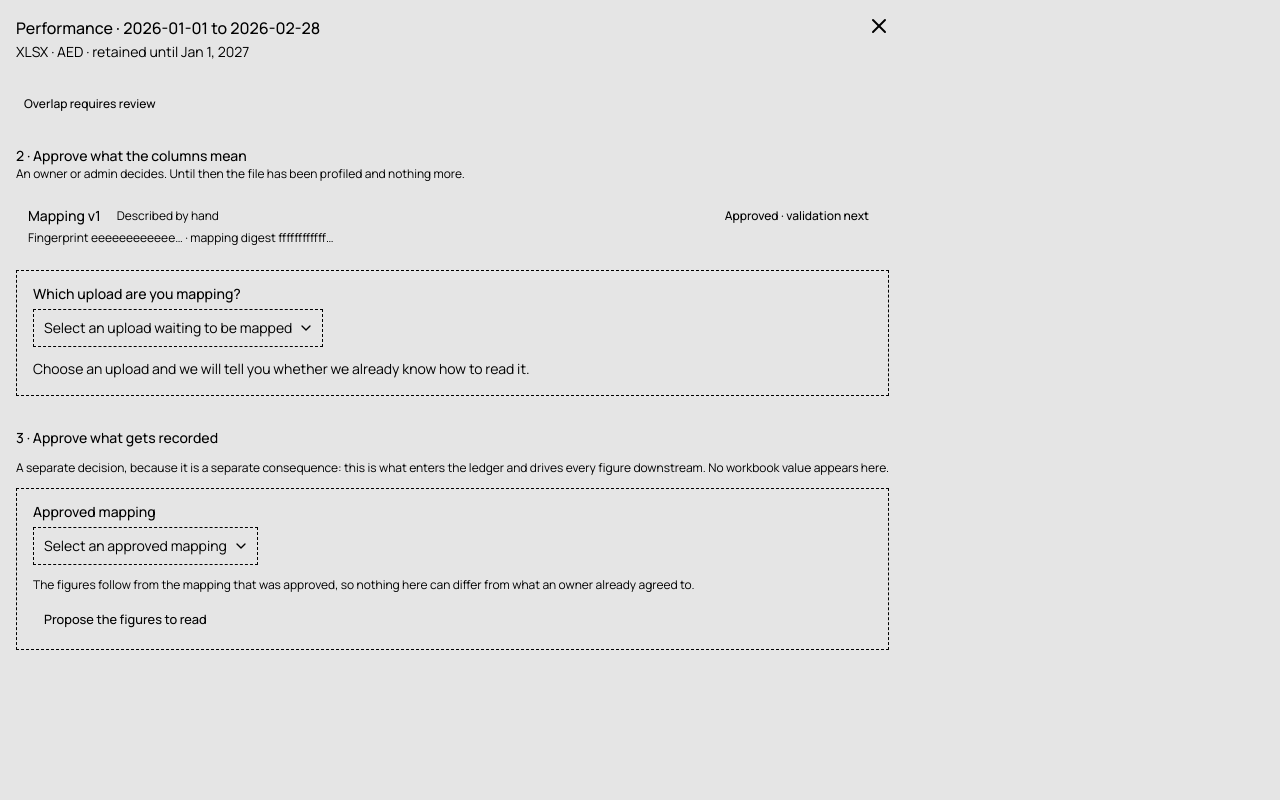
Test: ReportPackageDrawer figures versions › scopes the approved-mapping selector to the open package
Click the dropdown labelled "Select an approved mapping".
click(145, 546)  # box [33,527,258,565]
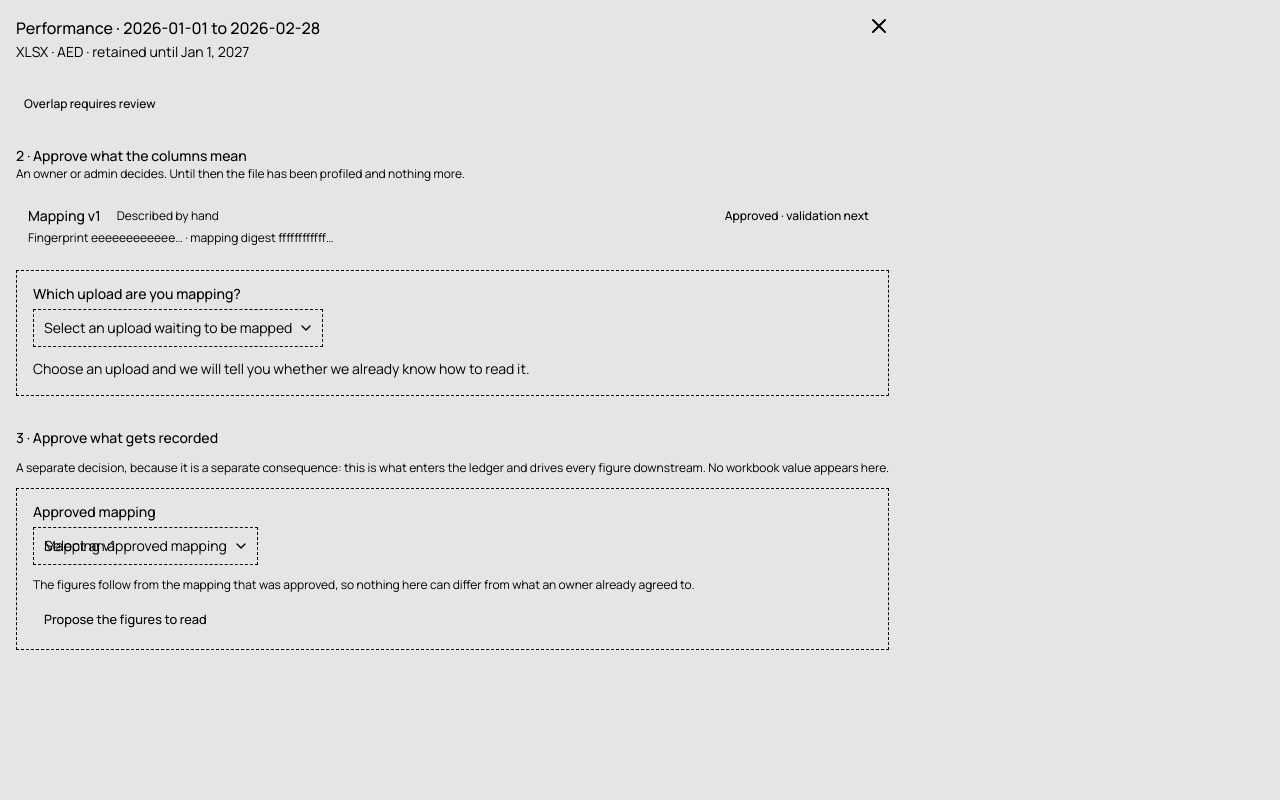
Now the option "Mapping v1" is shown, box [44,536,115,555]
